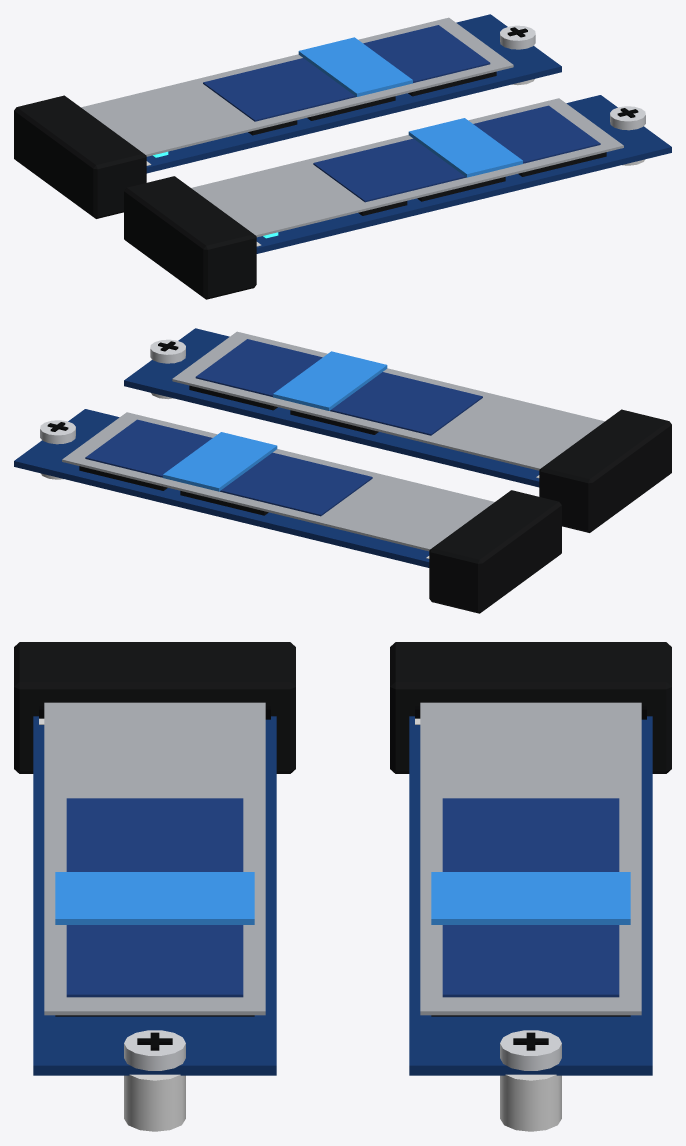
File: hwm_sto_sas_10tb.glb
3 views of the same model, one above another, from view 1: azimuth 30°, elevation 25°; view 2: azimuth 150°, elevation 25°; view 3: azimuth 270°, elevation 25° (orthographic). The views are drawn at different scales.
Parts seen in each view (by area): view 1: SSD_0, SSD_1, Slots, Screw_0, Screw_1; view 2: SSD_1, SSD_0, Slots, Screw_1, Screw_0; view 3: SSD_0, SSD_1, Slots, Screw_0, Screw_1.
Part boxes in pixels (x1,y1,x2,y2): SSD_0: [81, 14, 561, 173]; SSD_1: [191, 95, 671, 253]; Slots: [14, 45, 645, 299]; Screw_0: [500, 25, 535, 49]; Screw_1: [610, 106, 645, 130]; SSD_1: [124, 328, 604, 487]; SSD_0: [14, 409, 494, 567]; Slots: [40, 359, 671, 613]; Screw_1: [150, 339, 185, 363]; Screw_0: [40, 420, 75, 444]; SSD_0: [409, 702, 652, 1075]; SSD_1: [33, 702, 276, 1075]; Slots: [14, 642, 671, 1131]; Screw_0: [500, 1030, 561, 1070]; Screw_1: [124, 1030, 185, 1070].
Bounding box in the file's own units: 0.0855 × 0.0092 × 0.0595.
